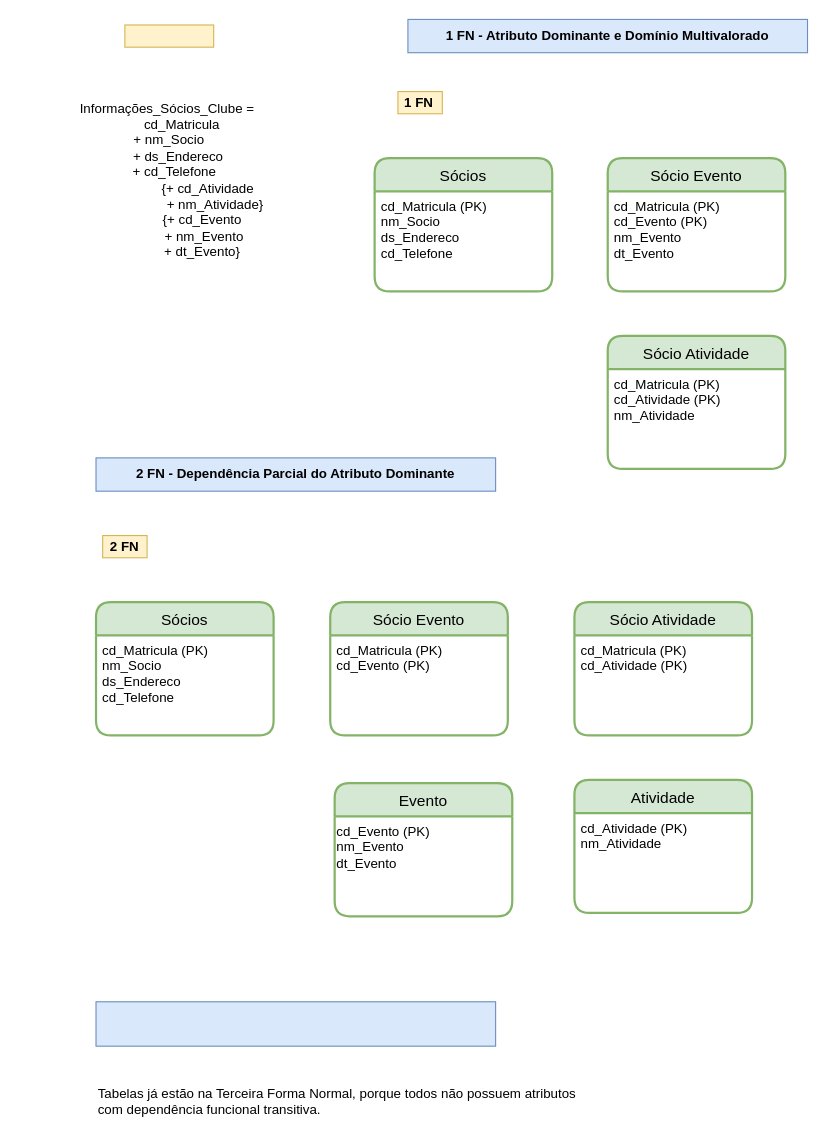
The diagram is 827 pixels wide and 1137 high, and some of its shapes have lost their labels. Each missing label, with the box of its shape:
3 FN - Dependência Funcional Transitiva: (95, 1001, 496, 1046)
Fluxo: (124, 24, 214, 47)
